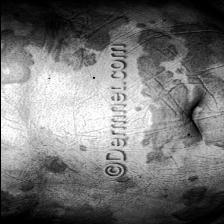Toxin: (135, 23, 224, 170), (0, 0, 106, 90), (0, 184, 121, 224), (162, 176, 224, 224), (40, 152, 80, 176)
